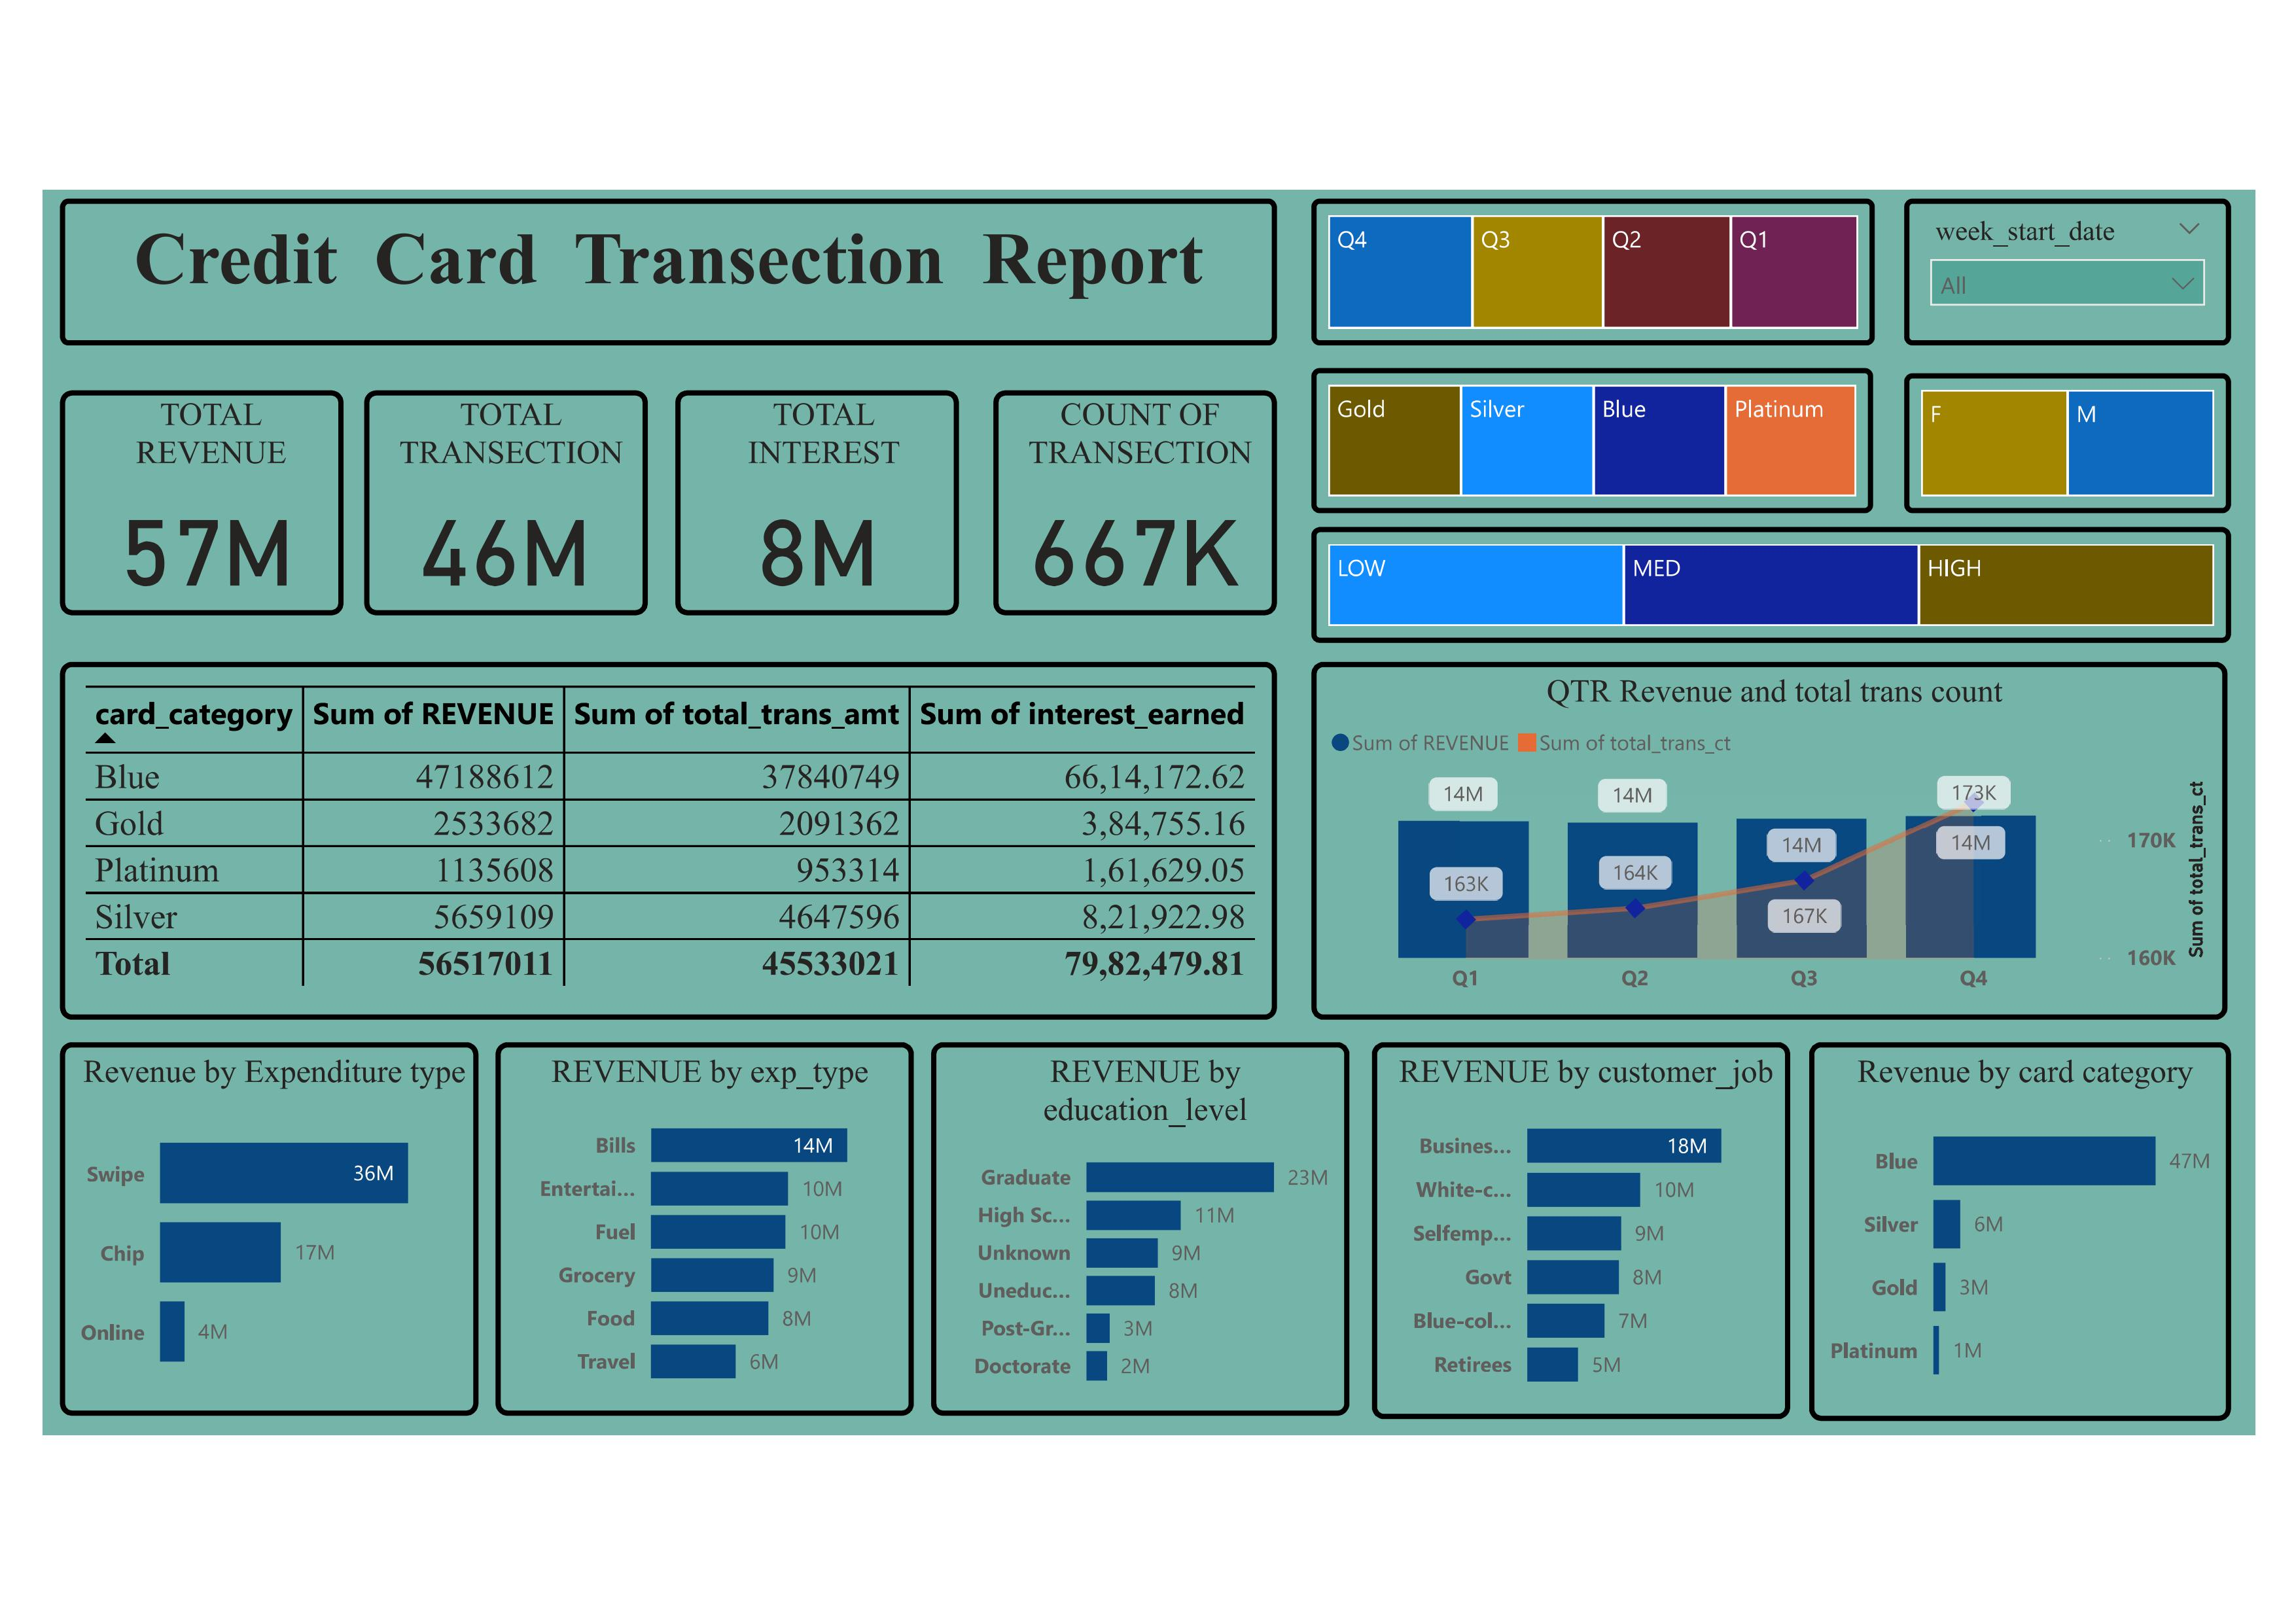

What the dashboard file says about the page in this screenshot:
{"tool":"powerbi","page":{"name":"CC_TRANSECTION","canvas":[1280,720],"ordinal":1},"visuals":[{"type":"textbox","box":[9.7,4.8,704.6,85.7],"z":0},{"type":"lineStackedColumnComboChart","title":"QTR Revenue and total trans count","fields":{"Category":["public cc_detail.qtr"],"Y":["Sum(public cc_detail.REVENUE)"],"Y2":["Sum(public cc_detail.total_trans_ct)"]},"box":[733.5,272.7,530.8,207.5],"z":1000},{"type":"clusteredBarChart","title":" REVENUE by exp_type","fields":{"Category":["public cc_detail.exp_type"],"Y":["Sum(public cc_detail.REVENUE)"]},"box":[261.8,493.4,242.5,216],"z":2000},{"type":"clusteredBarChart","title":"REVENUE by education_level","fields":{"Y":["Sum(public cc_detail.REVENUE)"],"Category":["public cust_detail.education_level"]},"box":[513.9,493.4,242.5,216],"z":3000},{"type":"clusteredBarChart","title":" REVENUE by customer_job","fields":{"Y":["Sum(public cc_detail.REVENUE)"],"Category":["public cust_detail.customer_job"]},"box":[768.5,493.4,242.5,217.2],"z":4000},{"type":"clusteredBarChart","title":"Revenue by card category","fields":{"Y":["Sum(public cc_detail.REVENUE)"],"Category":["public cc_detail.card_category"]},"box":[1021.9,493.4,243.7,218.4],"z":5000},{"type":"clusteredBarChart","title":"Revenue by Expenditure type","fields":{"Y":["Sum(public cc_detail.REVENUE)"],"Category":["public cc_detail.use_chip"]},"box":[9.7,493.4,242.5,216],"z":6000},{"type":"tableEx","fields":{"Values":["public cc_detail.card_category","Sum(public cc_detail.REVENUE)","Sum(public cc_detail.total_trans_amt)","Sum(public cc_detail.interest_earned)"]},"box":[9.7,272.7,704.6,207.5],"z":7000},{"type":"card","title":"TOTAL REVENUE","fields":{"Values":["Sum(public cc_detail.REVENUE)"]},"box":[9.7,115.8,164.1,130.3],"z":8000},{"type":"card","title":"TOTAL TRANSECTION","fields":{"Values":["Sum(public cc_detail.total_trans_amt)"]},"box":[185.8,115.8,164.1,130.3],"z":9000},{"type":"card","title":"TOTAL      INTEREST","fields":{"Values":["Sum(public cc_detail.interest_earned)"]},"box":[365.6,115.8,164.1,130.3],"z":10000},{"type":"card","title":"COUNT OF TRANSECTION","fields":{"Values":["Sum(public cc_detail.total_trans_ct)"]},"box":[550.1,115.8,164.1,130.3],"z":11000},{"type":"slicer","fields":{"Values":["public cc_detail.week_start_date"]},"box":[1077.4,4.8,188.2,85.7],"z":12000},{"type":"treemap","fields":{"Group":["public cc_detail.qtr"],"Values":["Avg(public cc_detail.client_num)"]},"box":[733.5,4.8,326.9,85.7],"z":13000},{"type":"treemap","fields":{"Values":["Avg(public cc_detail.client_num)"],"Group":["public cust_detail.gender"]},"box":[1077.4,106.2,188.2,80.8],"z":14000},{"type":"treemap","fields":{"Values":["Avg(public cc_detail.client_num)"],"Group":["public cc_detail.card_category"]},"box":[733.5,102.5,325.7,84.5],"z":15000},{"type":"treemap","fields":{"Values":["Avg(public cc_detail.client_num)"],"Group":["public cust_detail.IncomeGroup"]},"box":[733.5,195.4,532,66.4],"z":16000}]}

Visuals, with their boxes in screenshot pixels (x1, y1, x2, y2):
textbox: [x1=64, y1=200, x2=1267, y2=345]
"QTR Revenue and total trans count" lineStackedColumnComboChart: [x1=1299, y1=657, x2=2205, y2=1011]
" REVENUE by exp_type" clusteredBarChart: [x1=495, y1=1033, x2=908, y2=1401]
"REVENUE by education_level" clusteredBarChart: [x1=925, y1=1033, x2=1339, y2=1401]
" REVENUE by customer_job" clusteredBarChart: [x1=1359, y1=1033, x2=1773, y2=1403]
"Revenue by card category" clusteredBarChart: [x1=1792, y1=1033, x2=2207, y2=1406]
"Revenue by Expenditure type" clusteredBarChart: [x1=64, y1=1033, x2=478, y2=1401]
tableEx - public cc_detail.card_category x Sum(public cc_detail.REVENUE): [x1=64, y1=657, x2=1267, y2=1011]
"TOTAL REVENUE" card: [x1=64, y1=389, x2=344, y2=611]
"TOTAL TRANSECTION" card: [x1=365, y1=389, x2=645, y2=611]
"TOTAL      INTEREST" card: [x1=671, y1=389, x2=951, y2=611]
"COUNT OF TRANSECTION" card: [x1=987, y1=389, x2=1266, y2=611]
slicer - public cc_detail.week_start_date: [x1=1886, y1=200, x2=2207, y2=345]
treemap - public cc_detail.qtr x Avg(public cc_detail.client_num): [x1=1299, y1=200, x2=1857, y2=345]
treemap - Avg(public cc_detail.client_num) x public cust_detail.gender: [x1=1886, y1=372, x2=2207, y2=510]
treemap - Avg(public cc_detail.client_num) x public cc_detail.card_category: [x1=1299, y1=366, x2=1855, y2=510]
treemap - Avg(public cc_detail.client_num) x public cust_detail.IncomeGroup: [x1=1299, y1=525, x2=2207, y2=638]
